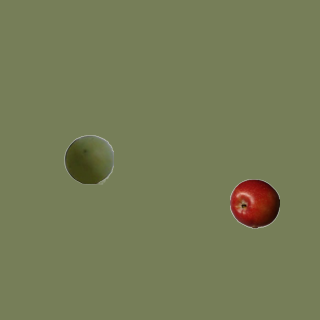Apple Braeburn: (229, 178, 279, 228)
Grape White 4: (63, 134, 113, 184)
